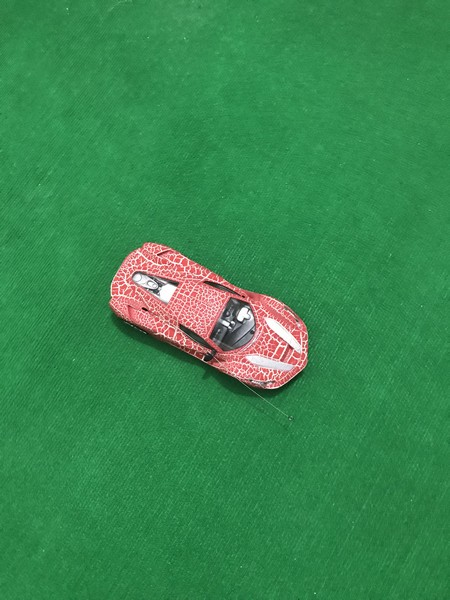RC: (105, 239, 312, 395)
